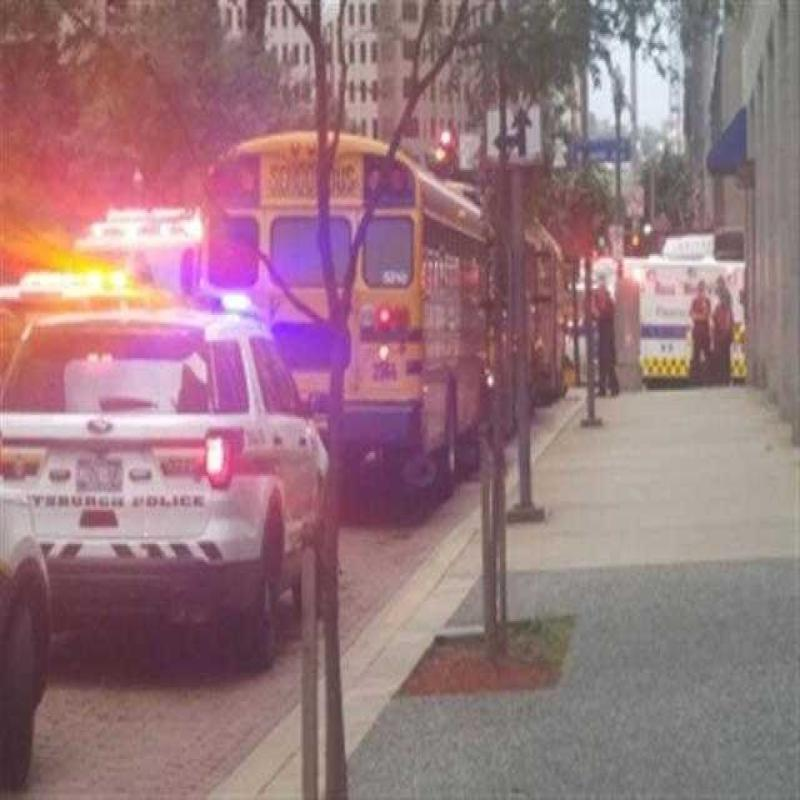bus: (220, 115, 505, 536)
